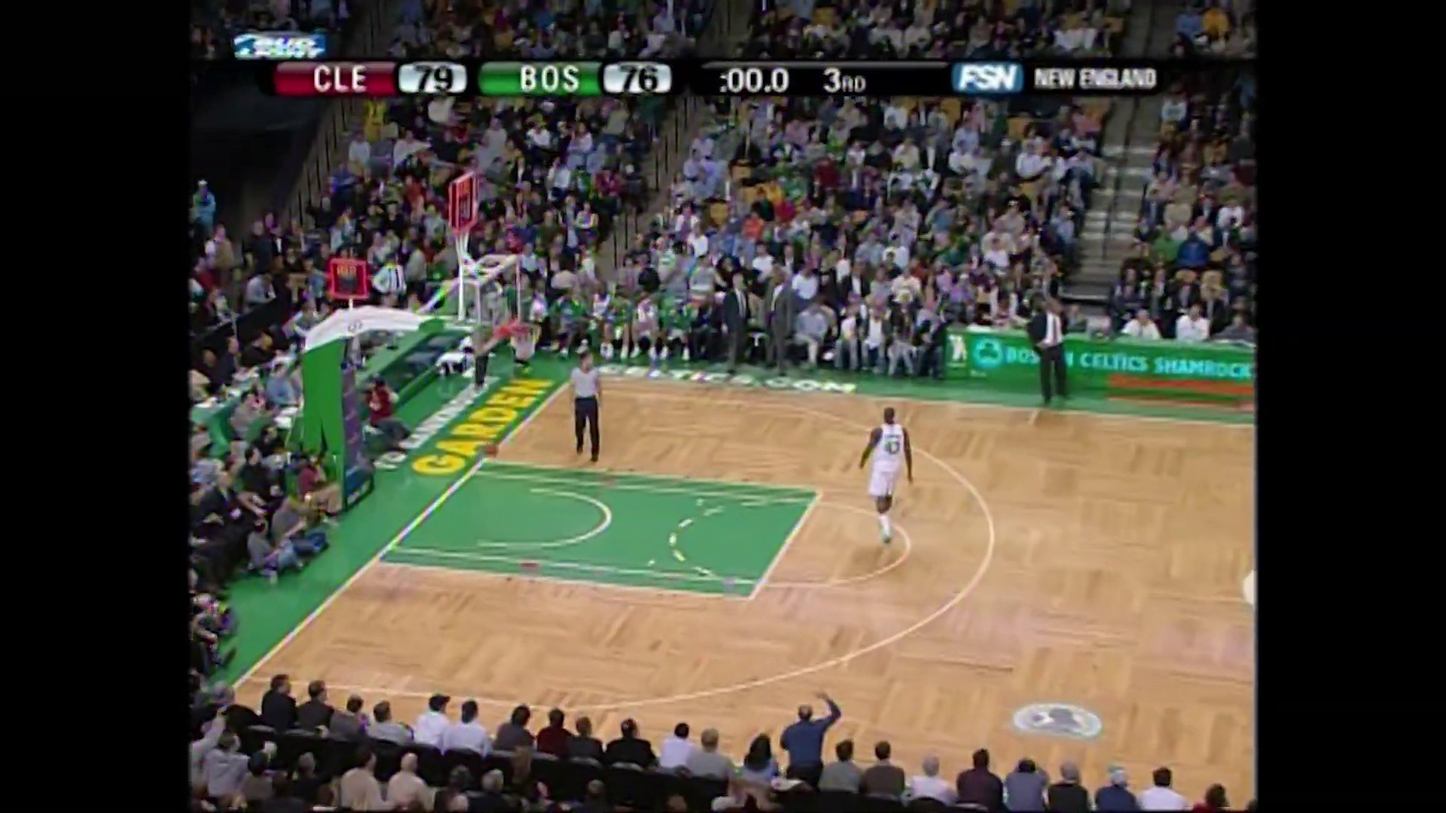basket_hoop: (448, 245, 574, 378)
